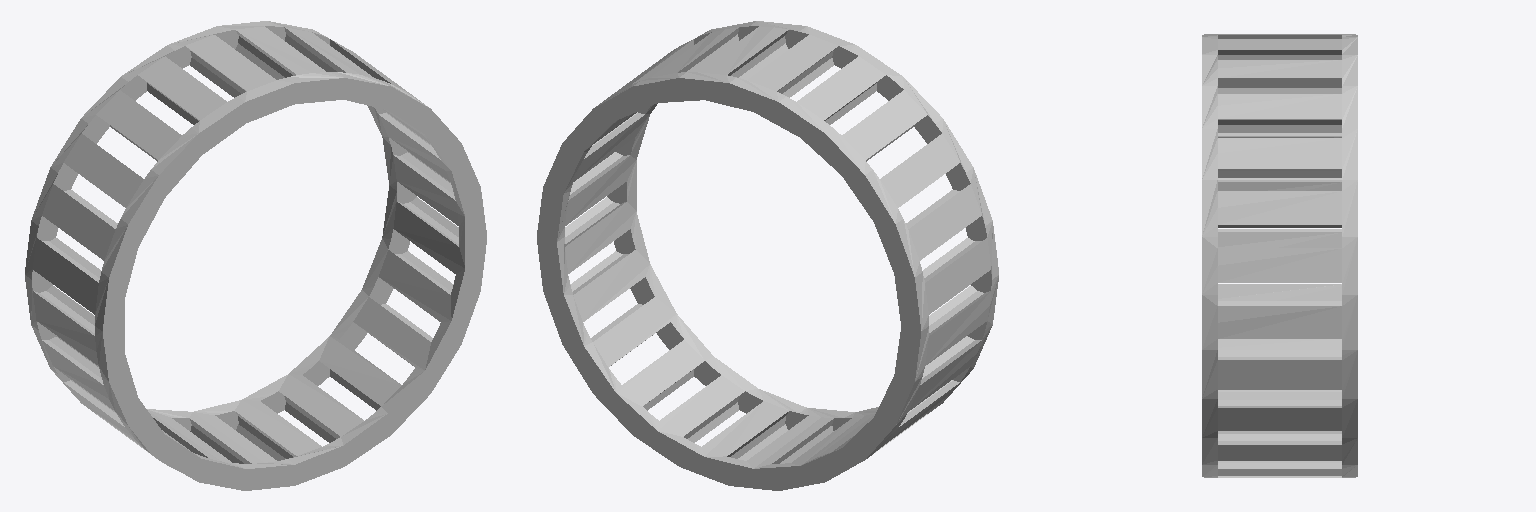
Rendered from Runner.obj.
3 views of the same model, side by side, from view 1: azimuth 30°, elevation 25°; view 2: azimuth 150°, elevation 25°; view 3: azimuth 270°, elevation 25° (orthographic).
Visible parts, largest first — view 1: 1; view 2: 1; view 3: 1.
Boxes of the visible parts, x1,y1,x2,y2 form: 1: [25, 21, 486, 490]; 1: [537, 21, 998, 490]; 1: [1202, 34, 1357, 477].
Bounding box in the file's own units: 28.5 × 28.5 × 10.